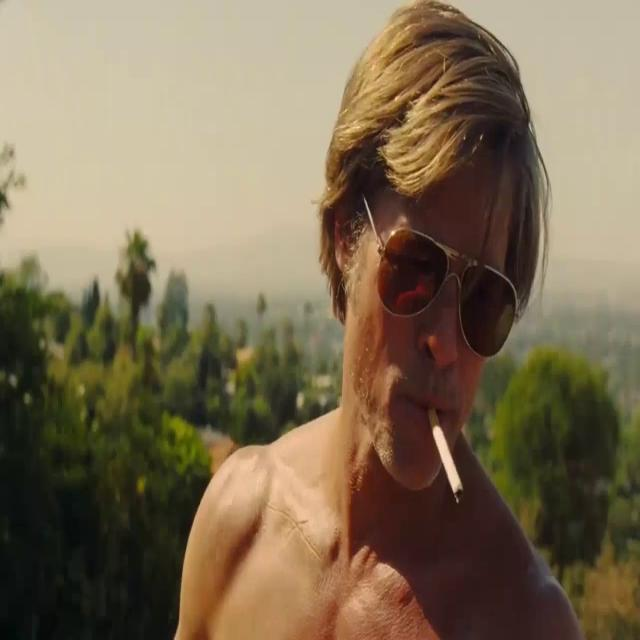Smooking: (424, 412, 467, 518)
